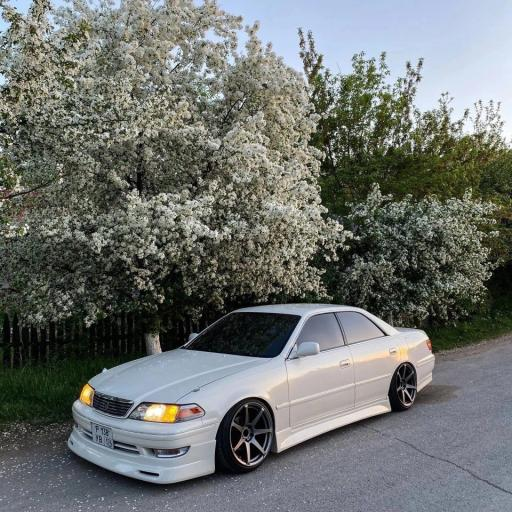bottle: (68, 303, 435, 483)
ramp: (0, 335, 511, 511)
